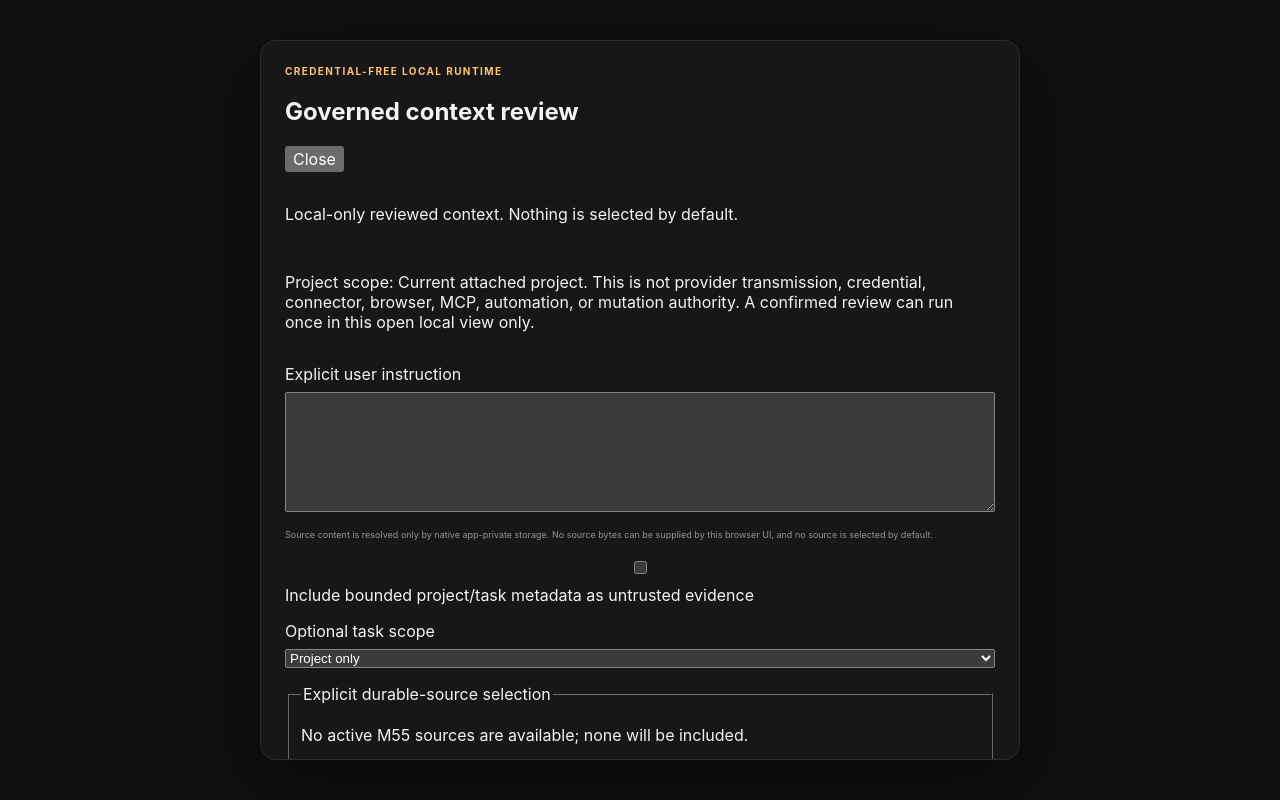
Test case: ContextAssemblyWorkbench › shows a bounded unavailable state when runtime preflight fails
The width and height of the screenshot is (1280, 800).
In the text box labelled "Explicit user instruction": (640, 452) x1=285 y1=392 x2=995 y2=512, type "Summarize the reviewed request"
(page scrolled)
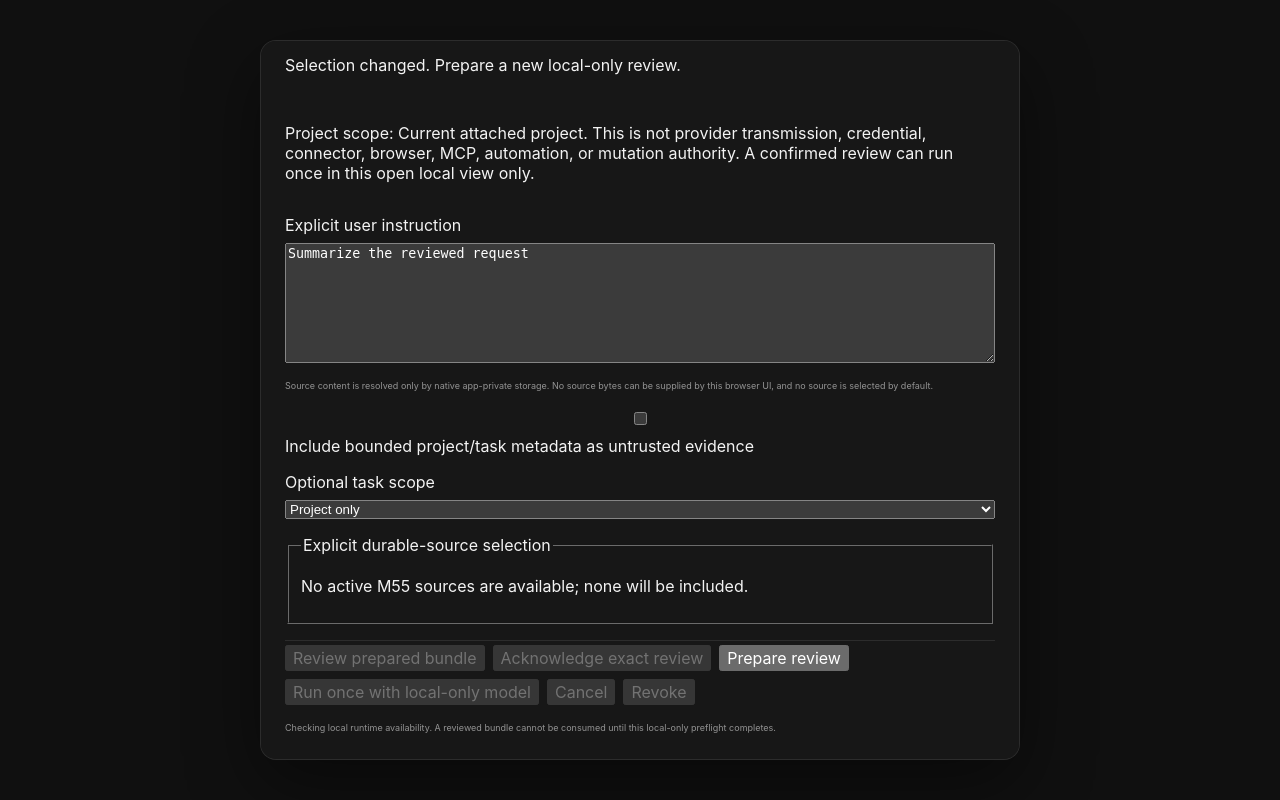
Click the button "Prepare review": (784, 658) x1=719 y1=645 x2=849 y2=671
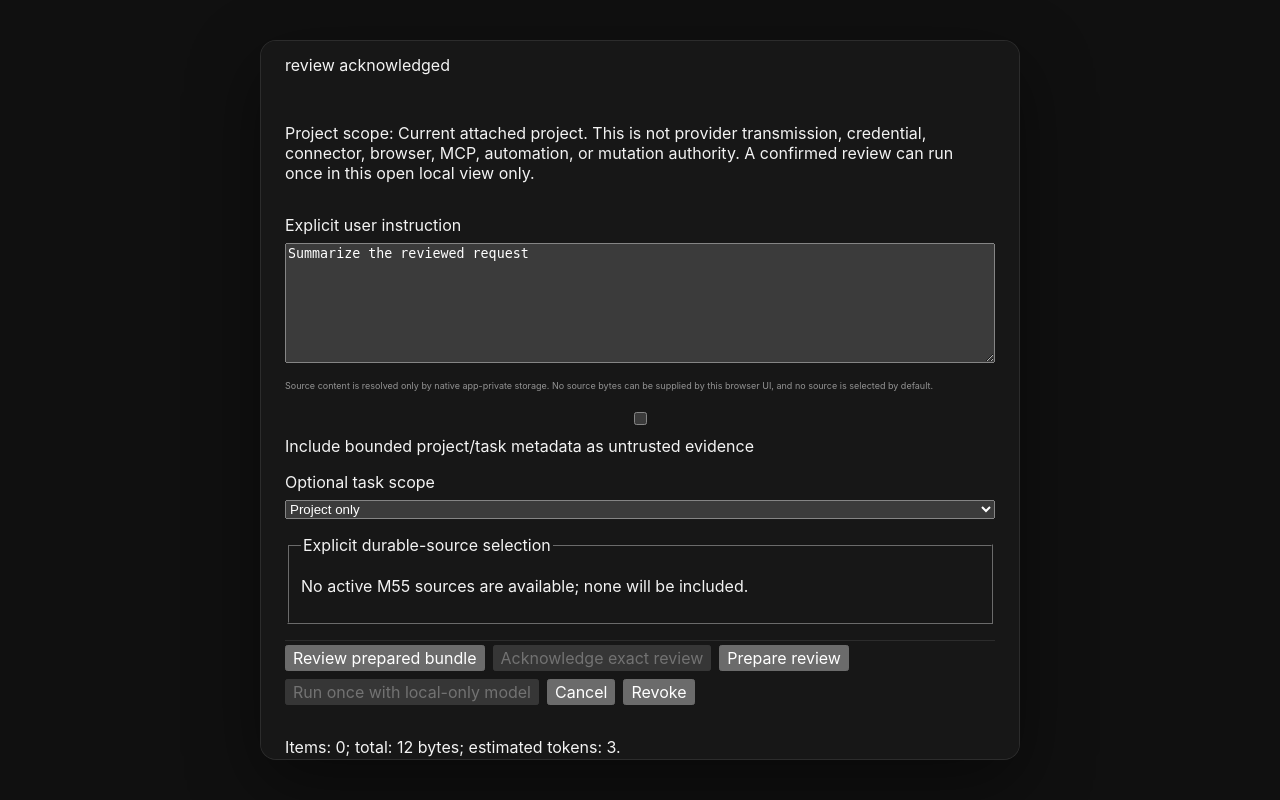
Expected: the button "Review prepared bundle" is shown
Click the button "Review prepared bundle": (385, 658) x1=285 y1=645 x2=484 y2=671
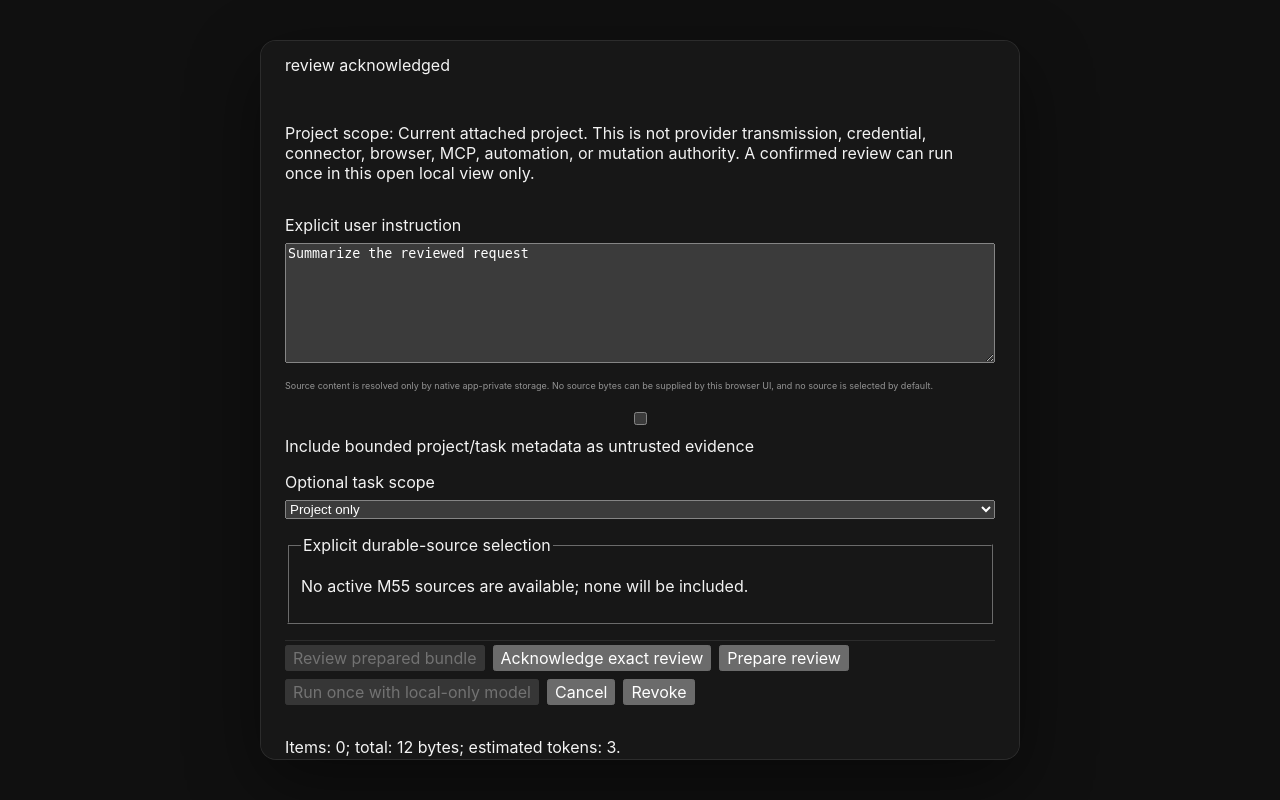
Expected: the button "Acknowledge exact review" is shown
Click the button "Acknowledge exact review": (602, 658) x1=492 y1=645 x2=711 y2=671
(page scrolled)
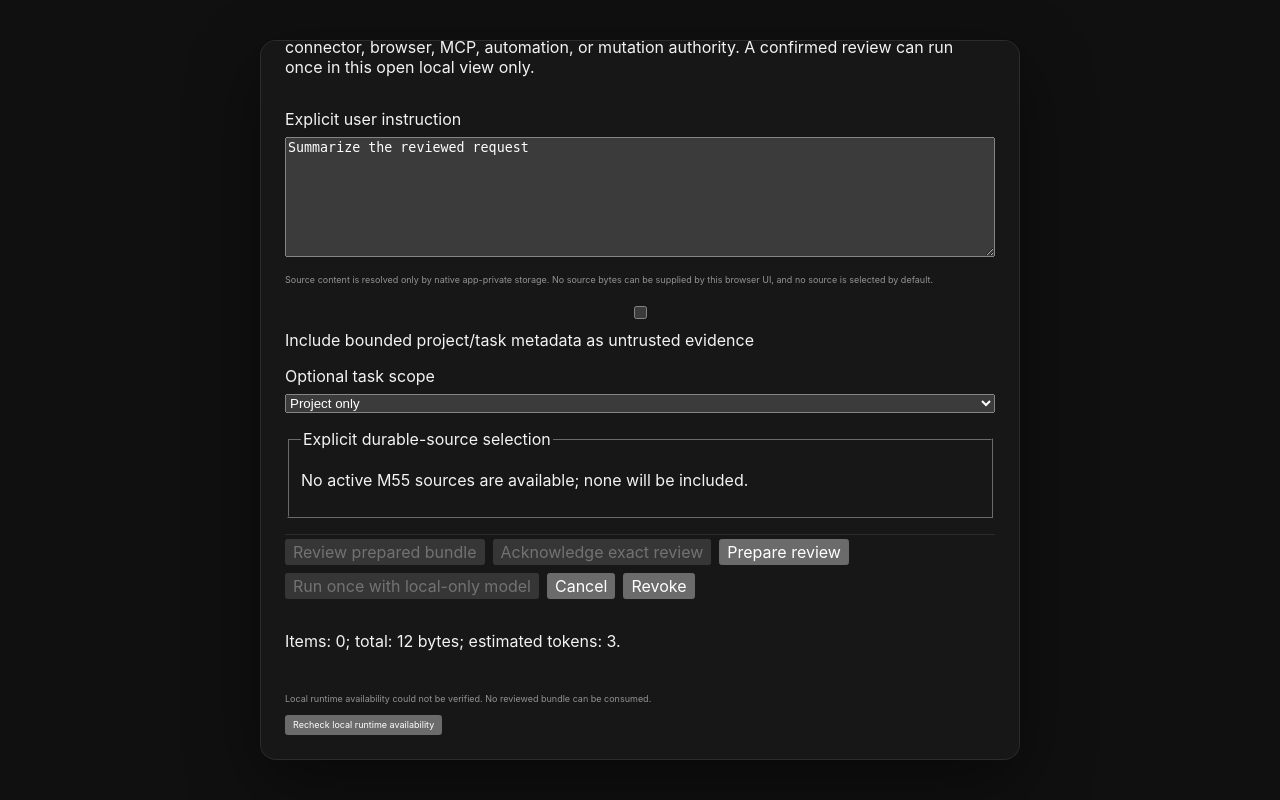
Expected: the text "Checking local runtime availability" is not shown
Expected: the button "Run once with local-only model" is disabled, x1=285 y1=573 x2=539 y2=599
Expected: the text "Local runtime availability could not be verified" is shown, x1=285 y1=693 x2=651 y2=704
